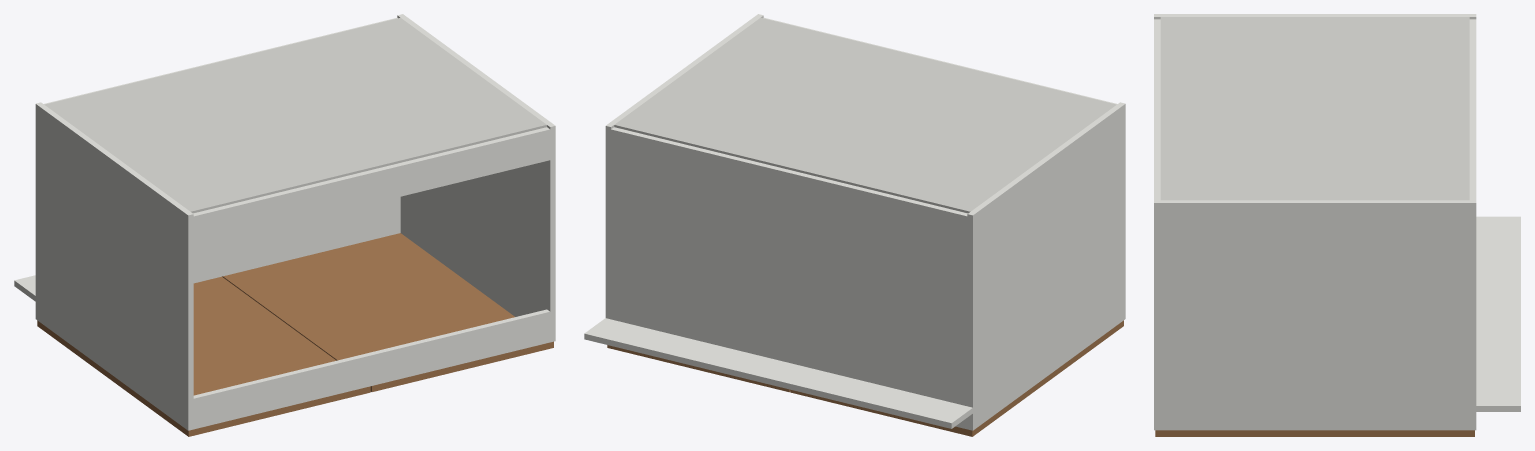
The model's file is M03_sink_cabinet.obj.
3 renders of one model, left to right at view 1: azimuth 30°, elevation 25°; view 2: azimuth 150°, elevation 25°; view 3: azimuth 270°, elevation 25°, orthographic. The views are drawn at different scales.
Parts seen in each view (by area): view 1: M03_sink_cabinet_Fundo, M03_sink_cabinet_Lateral_Esquerda, M03_sink_cabinet_Porta_2, M03_sink_cabinet_Lateral_Direita, M03_sink_cabinet_Travessa_Traseira, M03_sink_cabinet_Travessa_Frontal, M03_sink_cabinet_Porta_1, M03_sink_cabinet_Base; view 2: M03_sink_cabinet_Base, M03_sink_cabinet_Fundo, M03_sink_cabinet_Lateral_Esquerda, M03_sink_cabinet_Rodape, M03_sink_cabinet_Lateral_Direita, M03_sink_cabinet_Porta_1, M03_sink_cabinet_Porta_2, M03_sink_cabinet_Travessa_Traseira; view 3: M03_sink_cabinet_Lateral_Direita, M03_sink_cabinet_Fundo, M03_sink_cabinet_Rodape, M03_sink_cabinet_Porta_2, M03_sink_cabinet_Base, M03_sink_cabinet_Travessa_Traseira, M03_sink_cabinet_Lateral_Esquerda.
Boxes of the visible parts, left/top/right/bottom form: M03_sink_cabinet_Fundo: left=44, top=17, right=546, bottom=213; M03_sink_cabinet_Lateral_Esquerda: left=35, top=102, right=193, bottom=430; M03_sink_cabinet_Porta_2: left=222, top=233, right=553, bottom=391; M03_sink_cabinet_Lateral_Direita: left=397, top=14, right=555, bottom=342; M03_sink_cabinet_Travessa_Traseira: left=193, top=127, right=550, bottom=246; M03_sink_cabinet_Travessa_Frontal: left=193, top=309, right=550, bottom=429; M03_sink_cabinet_Porta_1: left=37, top=276, right=370, bottom=436; M03_sink_cabinet_Base: left=44, top=17, right=400, bottom=283; M03_sink_cabinet_Base: left=611, top=127, right=967, bottom=429; M03_sink_cabinet_Fundo: left=614, top=17, right=1116, bottom=213; M03_sink_cabinet_Lateral_Esquerda: left=967, top=102, right=1125, bottom=430; M03_sink_cabinet_Rodape: left=584, top=318, right=972, bottom=428; M03_sink_cabinet_Lateral_Direita: left=605, top=14, right=763, bottom=319; M03_sink_cabinet_Porta_1: left=790, top=320, right=1123, bottom=436; M03_sink_cabinet_Porta_2: left=607, top=345, right=790, bottom=392; M03_sink_cabinet_Travessa_Traseira: left=763, top=17, right=1117, bottom=104; M03_sink_cabinet_Lateral_Direita: left=1154, top=200, right=1476, bottom=430; M03_sink_cabinet_Fundo: left=1160, top=17, right=1469, bottom=200; M03_sink_cabinet_Rodape: left=1476, top=216, right=1520, bottom=411; M03_sink_cabinet_Porta_2: left=1155, top=430, right=1474, bottom=436; M03_sink_cabinet_Base: left=1469, top=19, right=1476, bottom=200; M03_sink_cabinet_Travessa_Traseira: left=1154, top=19, right=1160, bottom=200; M03_sink_cabinet_Lateral_Esquerda: left=1154, top=14, right=1476, bottom=19.
Bounding box in the file's own units: 1000 × 598 × 820.
